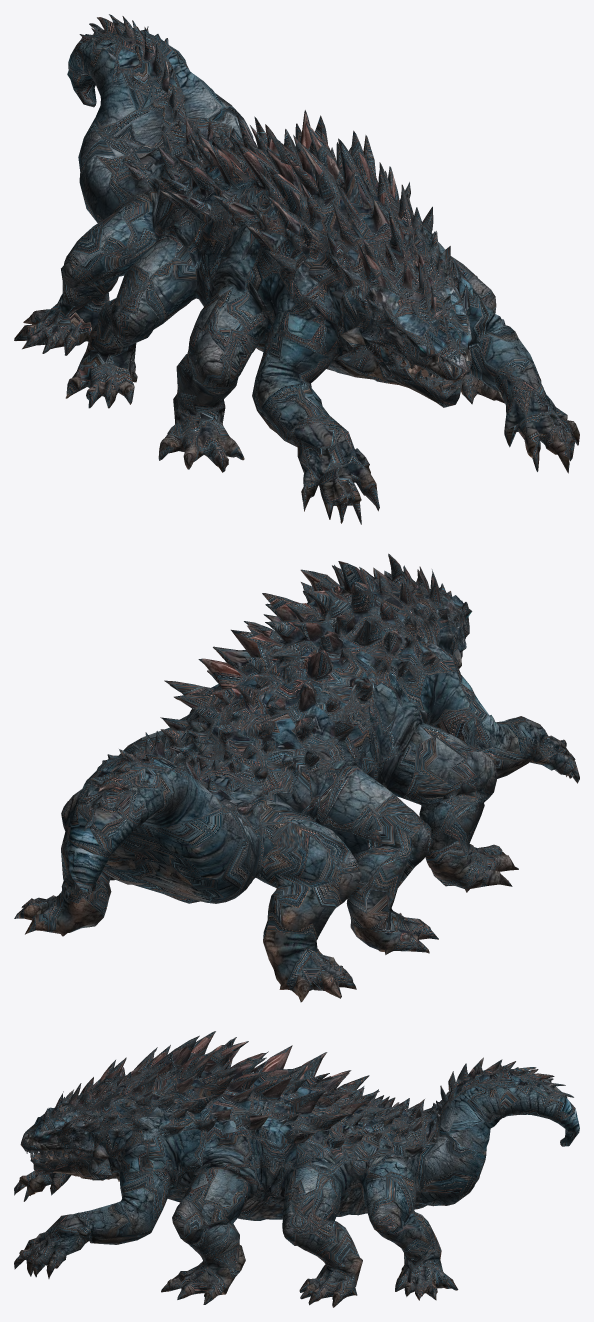
File: basilisk.glb
3 renders of one model, top to bottom at view 1: azimuth 30°, elevation 25°; view 2: azimuth 150°, elevation 25°; view 3: azimuth 270°, elevation 25°, orthographic. The views are drawn at different scales.
Bounding box in the file's own units: 1.03 × 0.7671 × 1.9.
Materials: 1 (1 with a texture image).
